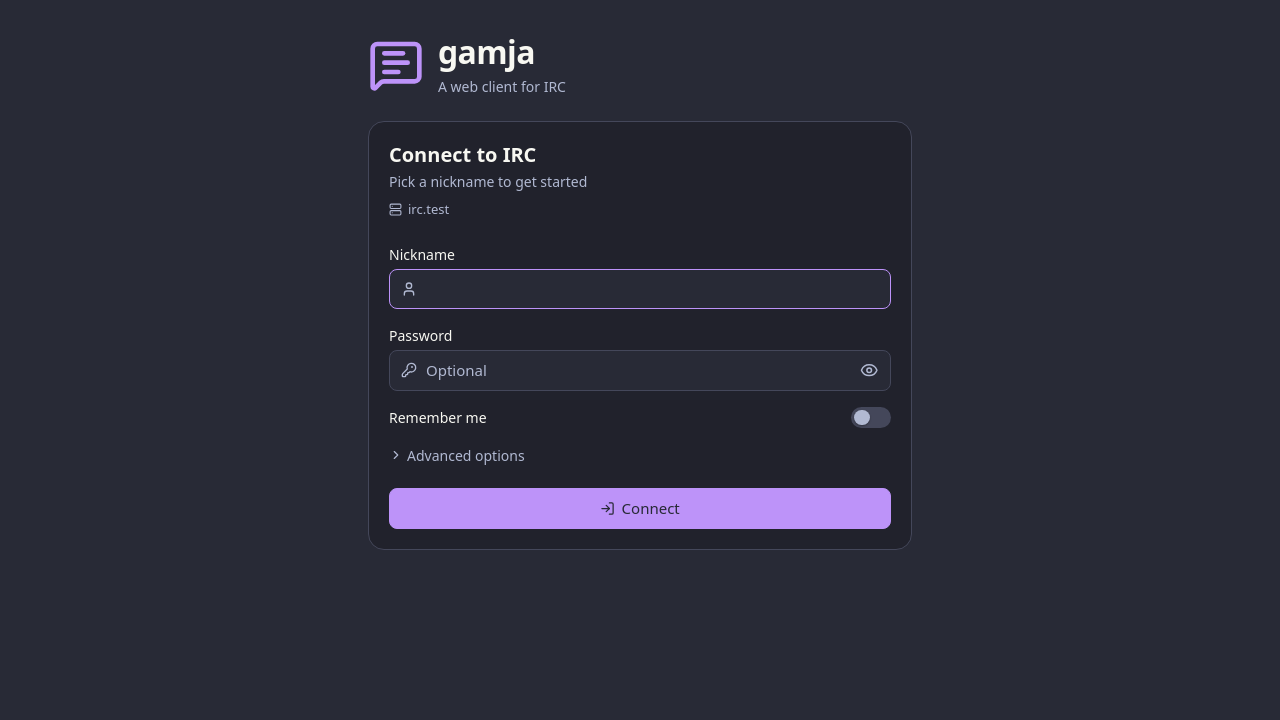
it: App › connects and chats
The width and height of the screenshot is (1280, 720).
expect the heading "Connect to IRC" is shown: met, box left=389, top=141, right=536, bottom=168
Type "me" into the field labelled "Nickname" at (640, 289), box left=389, top=268, right=891, bottom=309
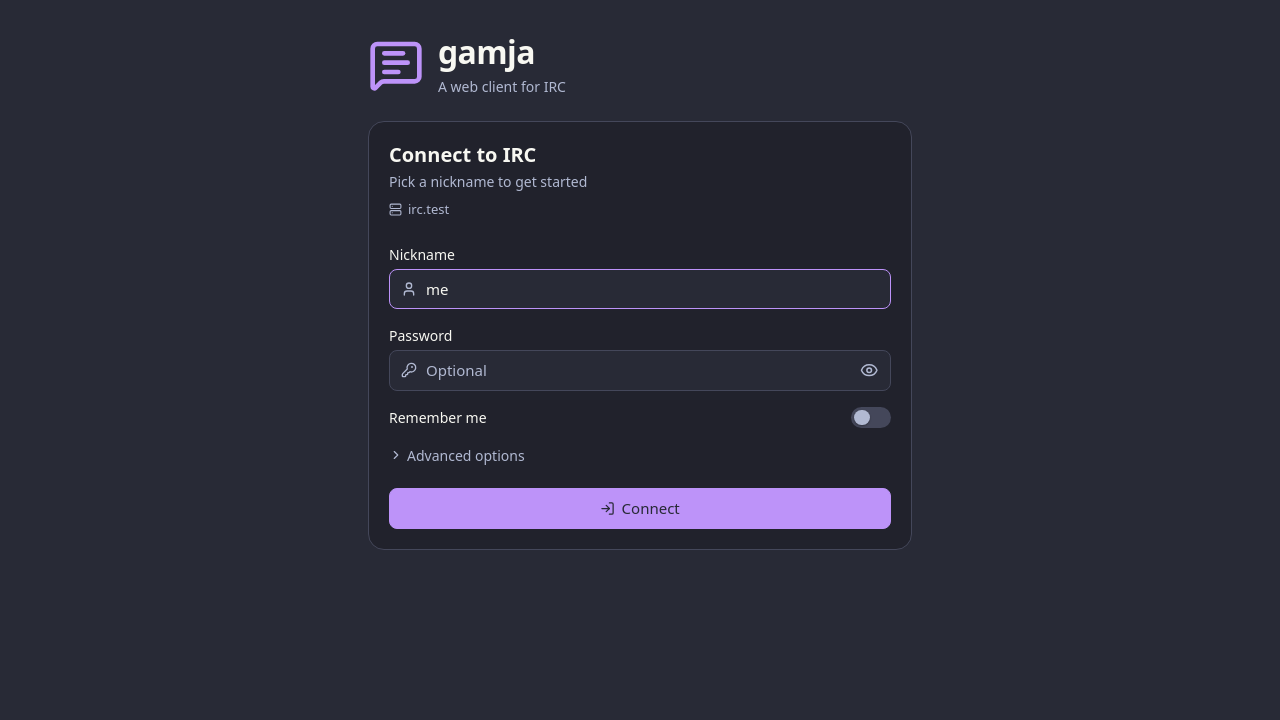
Click the button "Connect" at (640, 508), box left=389, top=488, right=891, bottom=529
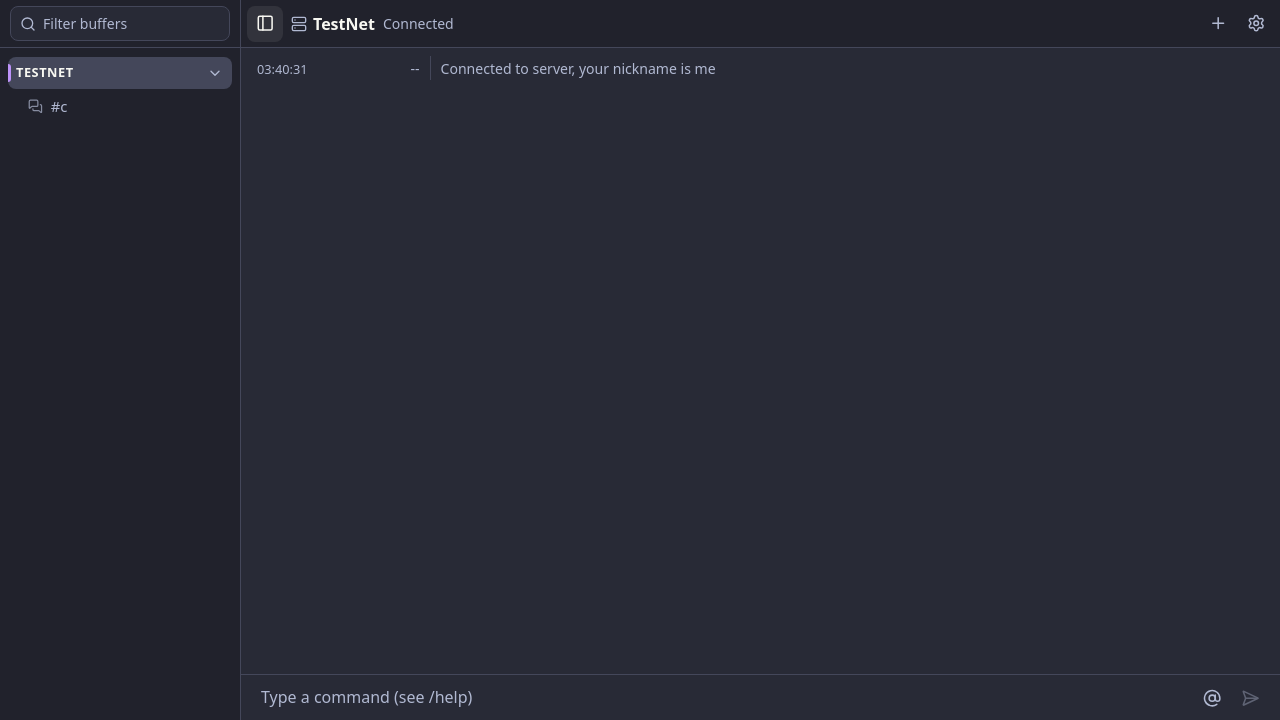
Click the tab "#c" at (35, 106), box left=28, top=96, right=68, bottom=116
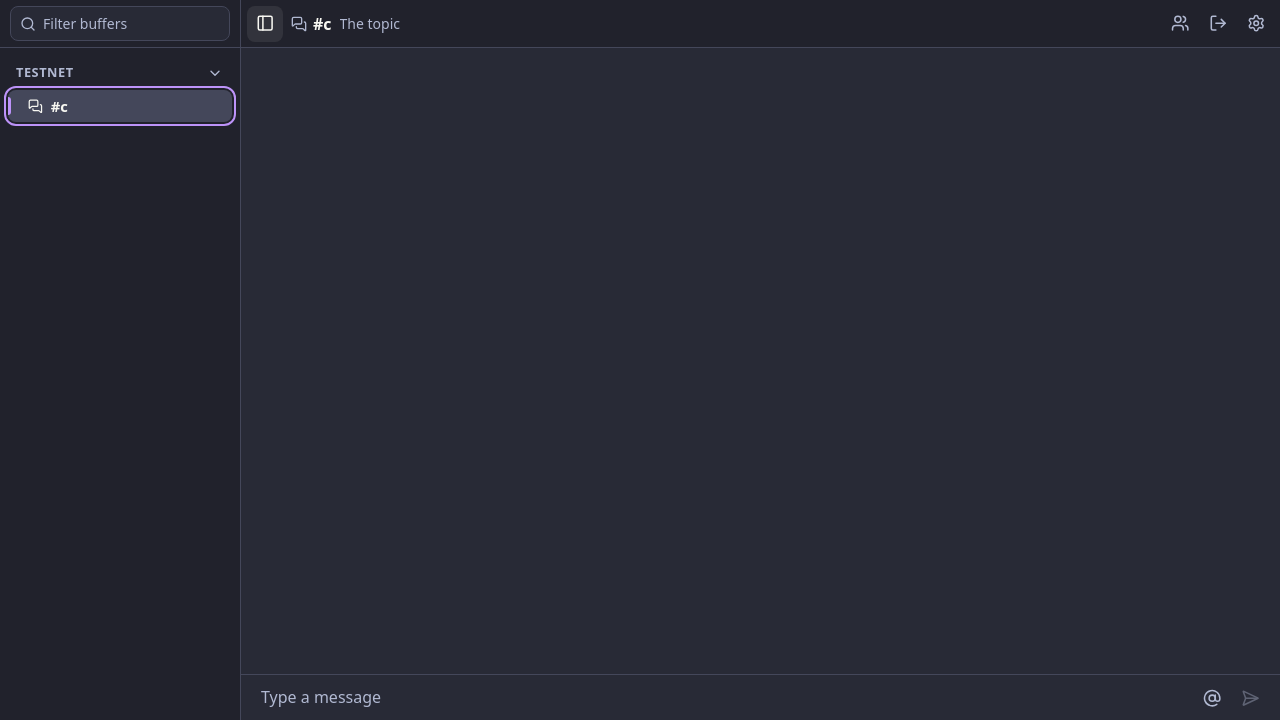
expect the heading "#c" is shown: met, box left=313, top=14, right=332, bottom=34
expect the text "The topic" is shown: met, box left=340, top=14, right=400, bottom=33
Type "hello" into the text box labelled "Type a message" at (722, 698), box left=253, top=679, right=1190, bottom=716
Then press Enter
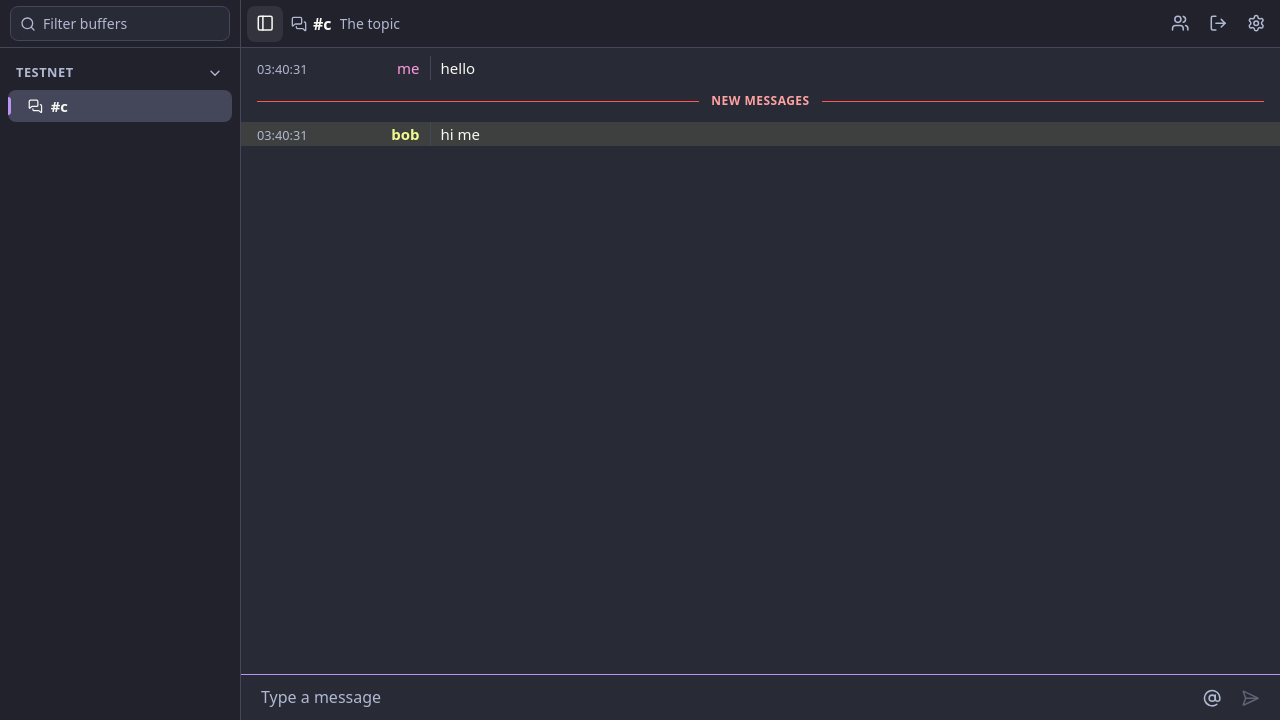
expect the text "hello" is shown: met, box left=440, top=58, right=475, bottom=78
